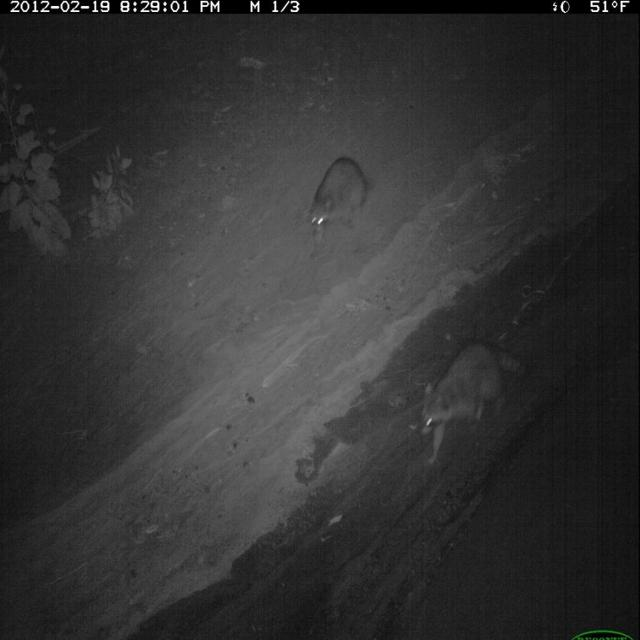raccoon: (417, 336, 529, 471), (303, 152, 378, 265)
